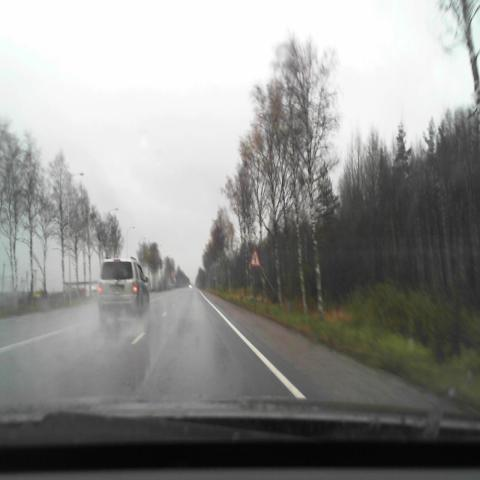2_3_3: (250, 248, 260, 267)
